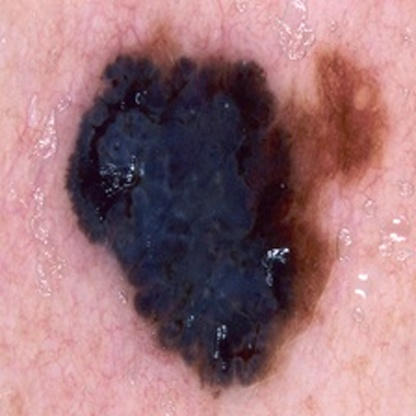malignant: (88, 62, 329, 342)
